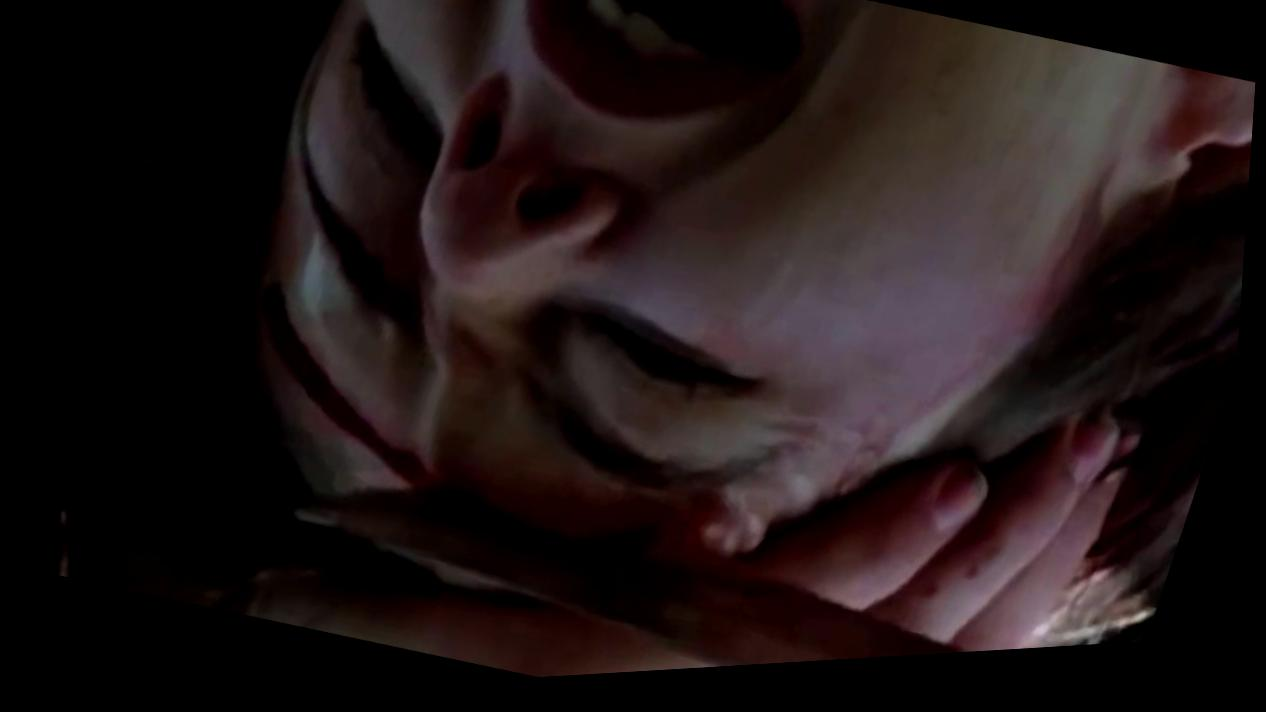Fire: (266, 295, 479, 497), (879, 495, 1023, 634)
